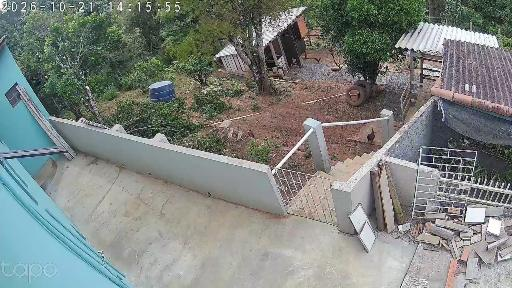galinha: (367, 128, 375, 147), (291, 70, 300, 79), (314, 58, 322, 64)
